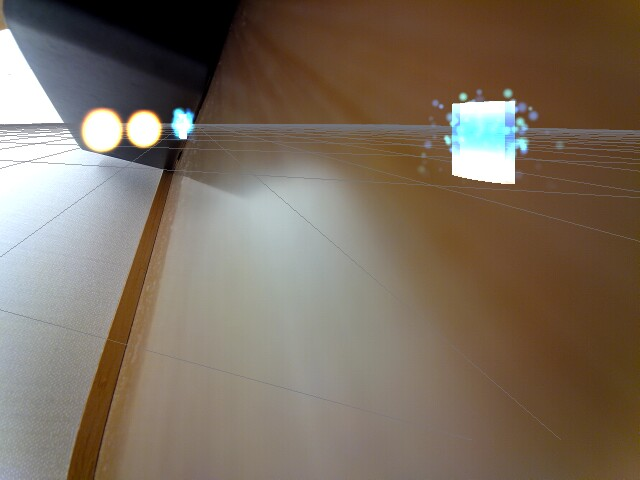firebig: (75, 106, 124, 153)
